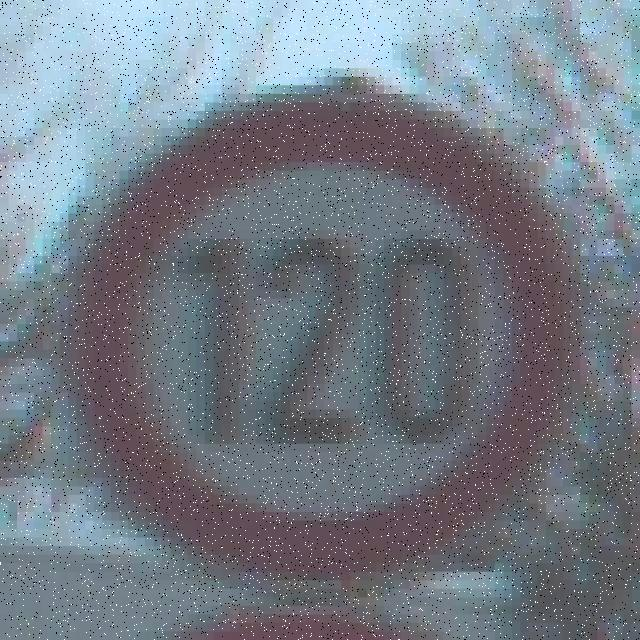Ograniczenie predkosci do 120: (63, 90, 583, 598)
